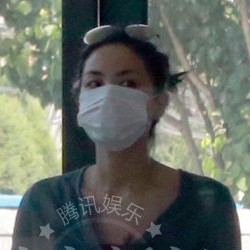mask: (73, 82, 163, 151)
